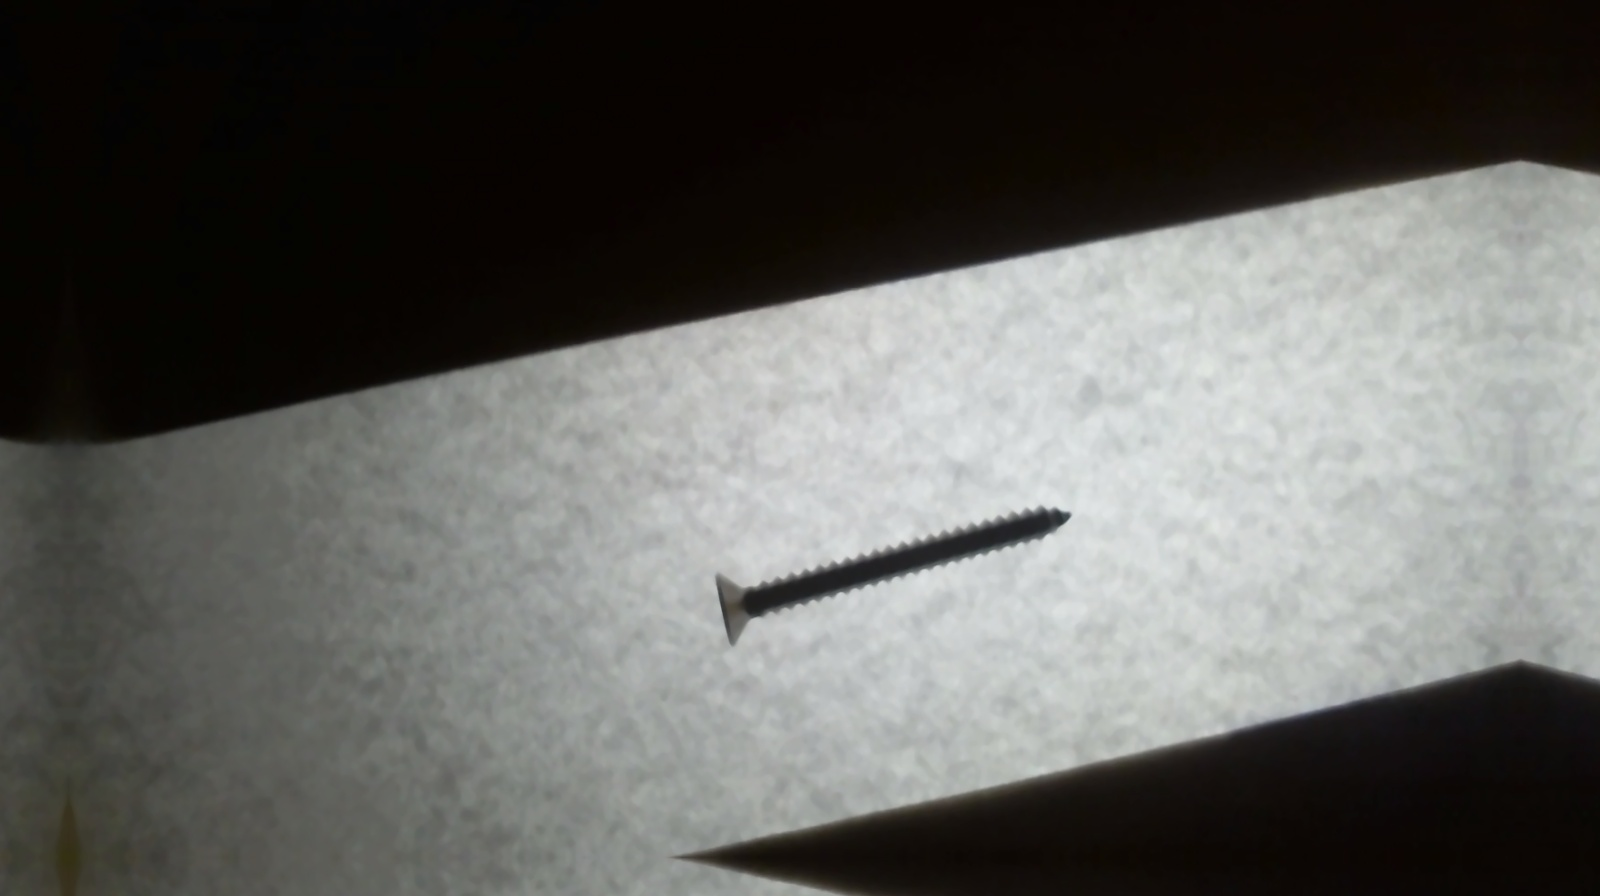S002: (697, 483, 1100, 661)
